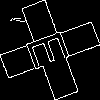E: (25, 25, 79, 72)
